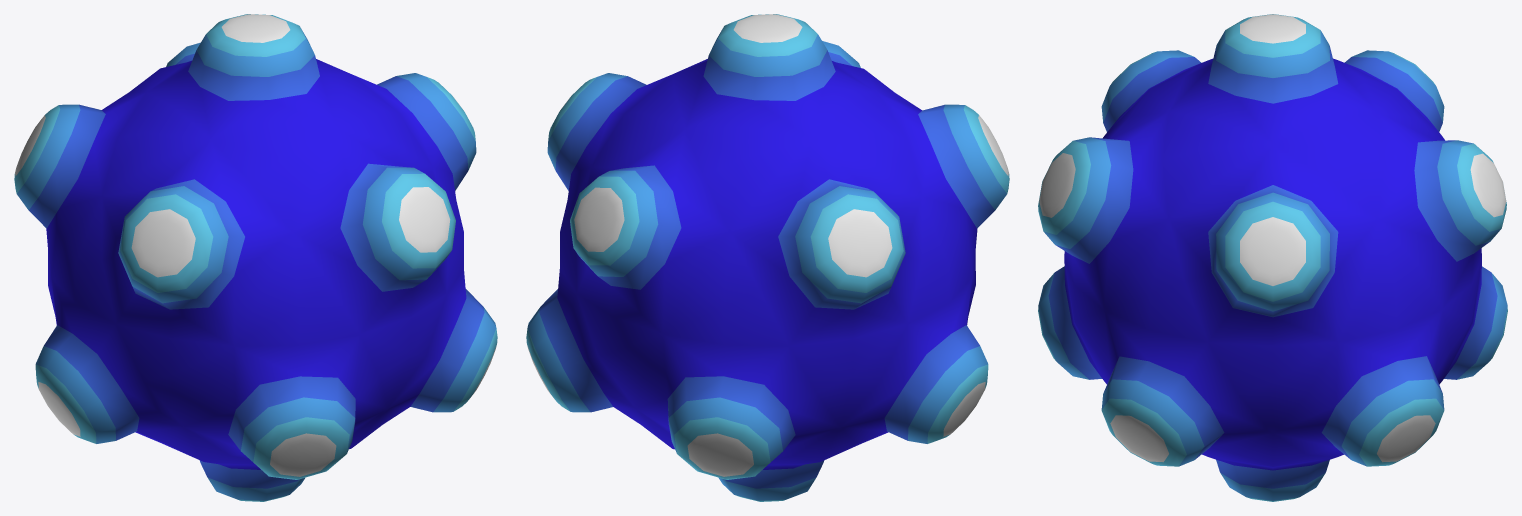
File: katamari_ball.fbx
The picture shows the model from 3 angles, left to right: view 1: azimuth 30°, elevation 25°; view 2: azimuth 150°, elevation 25°; view 3: azimuth 270°, elevation 25°; orthographic projection.
Parts seen in each view (by area): view 1: Icosphere; view 2: Icosphere; view 3: Icosphere.
Part boxes in pixels (<box>): Icosphere: <box>14,14,497,501</box>; Icosphere: <box>526,14,1009,501</box>; Icosphere: <box>1038,14,1507,501</box>.
Bounding box in the file's own units: 92.3 × 97.78 × 89.37.
